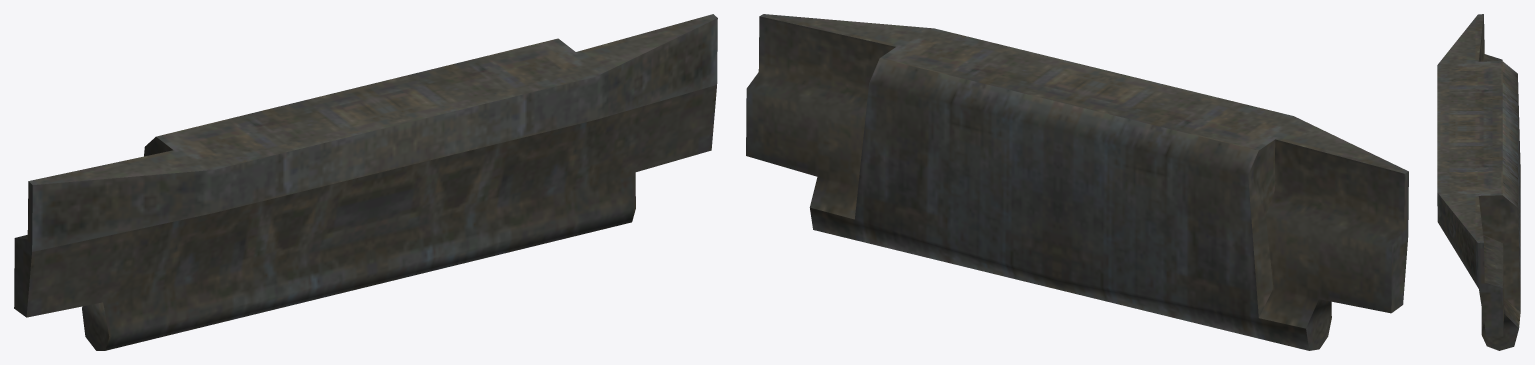
3 renders of one model, left to right at view 1: azimuth 30°, elevation 25°; view 2: azimuth 150°, elevation 25°; view 3: azimuth 270°, elevation 25°, orthographic. The views are drawn at different scales.
Parts seen in each view (by area): view 1: set_0_group_0; view 2: set_0_group_0; view 3: set_0_group_0.
Part boxes in pixels (x1,y1,x2,y2): set_0_group_0: (14, 14, 717, 350); set_0_group_0: (746, 14, 1408, 350); set_0_group_0: (1437, 14, 1520, 350).
Bounding box in the file's own units: 0.6411 × 0.1766 × 0.0988.
Materials: 1 (1 with a texture image).
